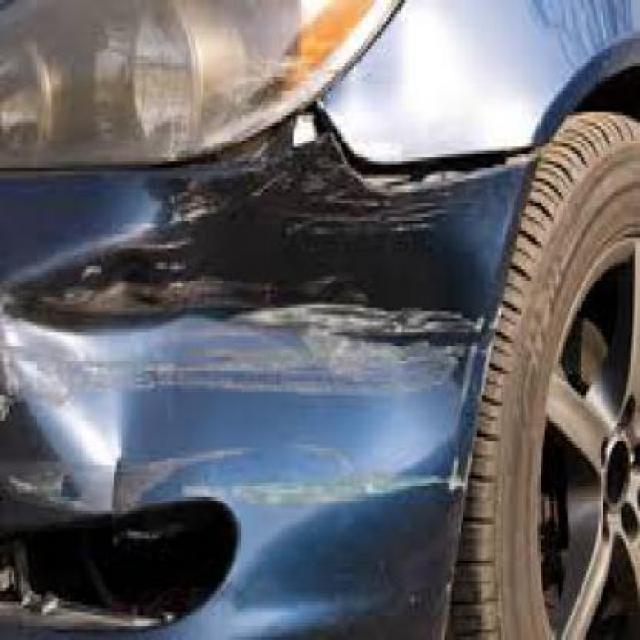damaged-front-bumper: (0, 152, 537, 638)
